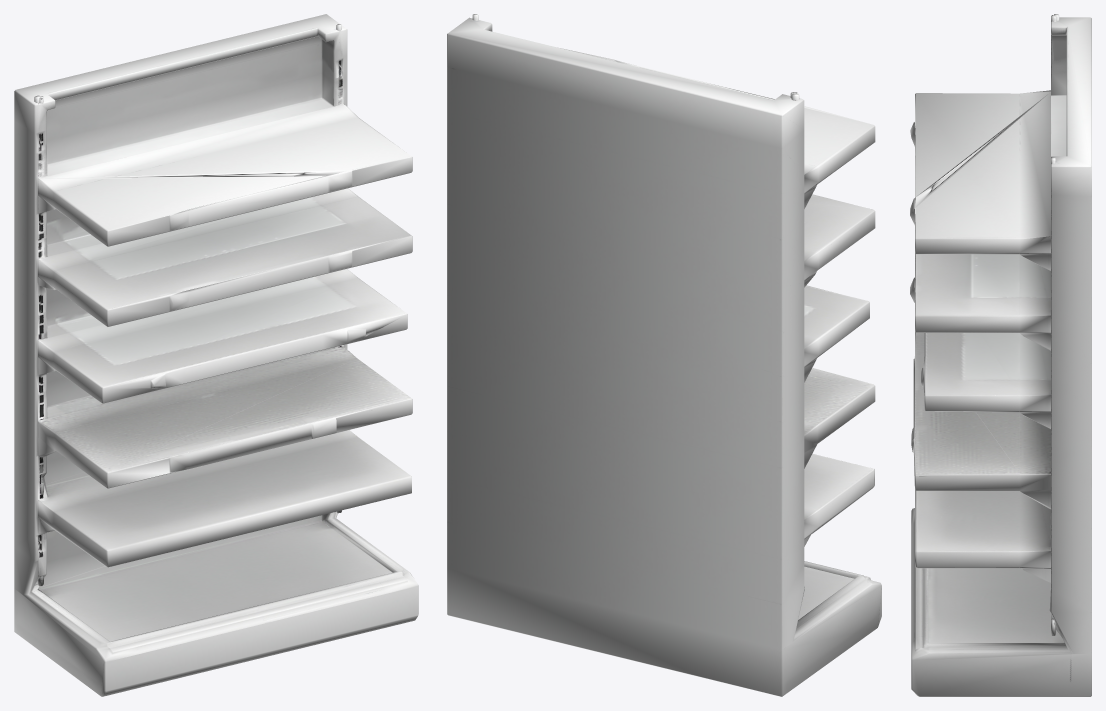
File: Meshy_AI_Tall_white_adjustable_0518125442_texture.fbx
3 renders of one model, left to right at view 1: azimuth 30°, elevation 25°; view 2: azimuth 150°, elevation 25°; view 3: azimuth 270°, elevation 25°, orthographic. The views are drawn at different scales.
Visible parts, largest first — view 1: Mesh_0; view 2: Mesh_0; view 3: Mesh_0.
Boxes of the visible parts, x1,y1,x2,y2 form: Mesh_0: (14, 14, 418, 696); Mesh_0: (447, 14, 881, 696); Mesh_0: (910, 14, 1091, 696).
Size of the model in its own units: 115 by 192 by 59.1.
1 material, 1 textured.
